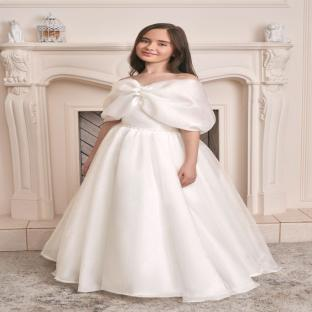Human: (41, 23, 280, 302)
